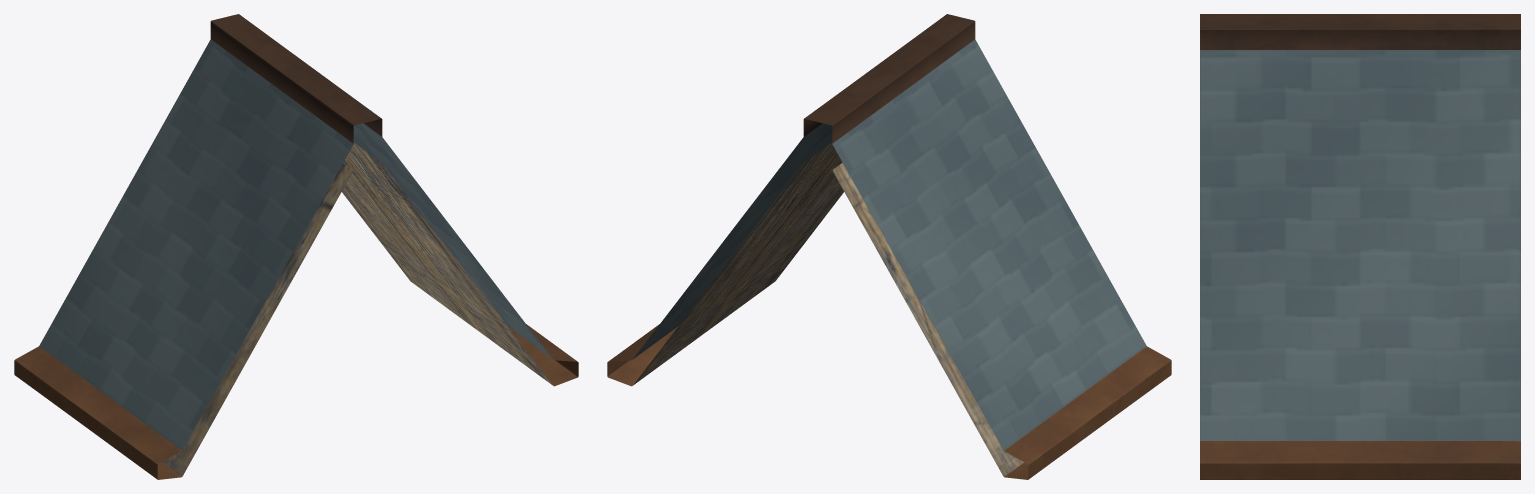
File: BW_Cottage01_EaveNarrow.fbx
3 renders of one model, left to right at view 1: azimuth 30°, elevation 25°; view 2: azimuth 150°, elevation 25°; view 3: azimuth 270°, elevation 25°, orthographic. The views are drawn at different scales.
Visible parts, largest first — view 1: BW_Cottage01_EaveNarrow; view 2: BW_Cottage01_EaveNarrow; view 3: BW_Cottage01_EaveNarrow.
Part boxes in pixels (<box>): BW_Cottage01_EaveNarrow: <box>14,14,578,479</box>; BW_Cottage01_EaveNarrow: <box>607,14,1171,479</box>; BW_Cottage01_EaveNarrow: <box>1200,14,1520,479</box>.
Size of the model in its own units: 3.4 by 2.39 by 2.
